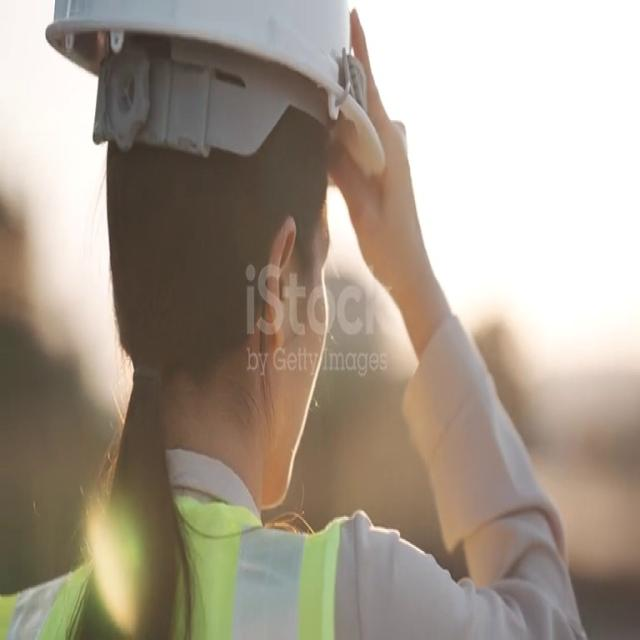capacete: (33, 0, 393, 201)
